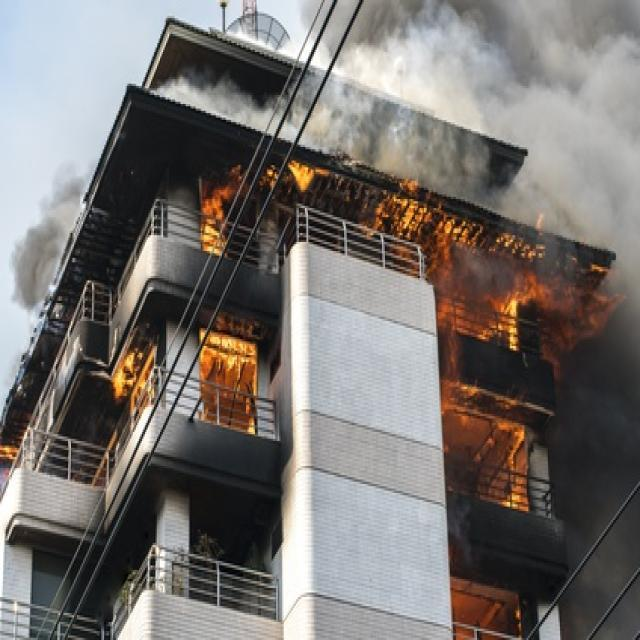Fire: (75, 146, 598, 632)
Smoke: (147, 5, 597, 146), (598, 0, 638, 624)
